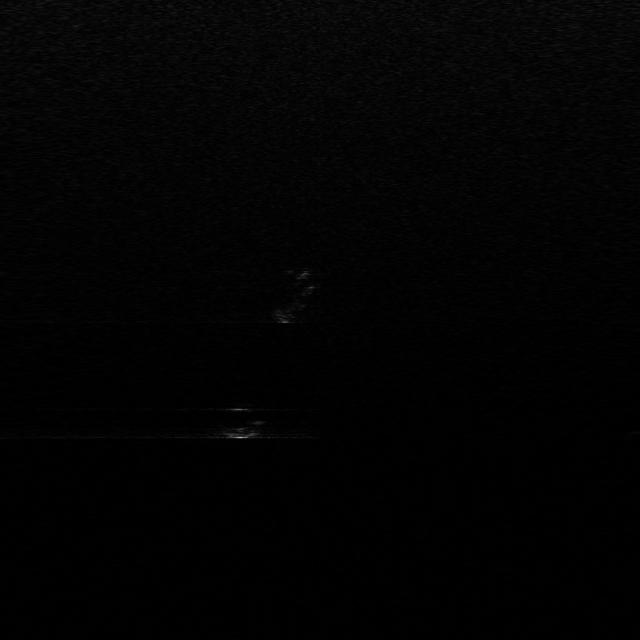ball: (218, 408, 266, 438)
tyre: (277, 264, 314, 323)
